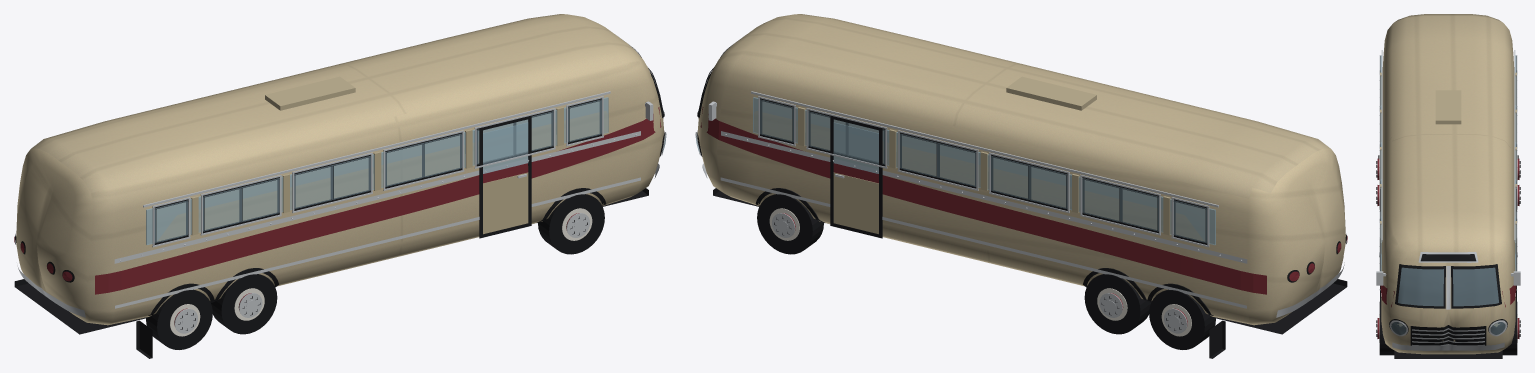
File: coach-geometry-0824.consolidated.glb
3 renders of one model, left to right at view 1: azimuth 30°, elevation 25°; view 2: azimuth 150°, elevation 25°; view 3: azimuth 270°, elevation 25°, orthographic. The views are drawn at different scales.
Visible parts, largest first — view 1: coach_consolidated_0, coach_consolidated_3, coach_consolidated_4, coach_consolidated_2, coach_consolidated_1, coach_consolidated_5; view 2: coach_consolidated_0, coach_consolidated_3, coach_consolidated_4, coach_consolidated_2, coach_consolidated_1, coach_consolidated_5; view 3: coach_consolidated_0, coach_consolidated_4, coach_consolidated_3, coach_consolidated_2, coach_consolidated_1, coach_consolidated_5.
Part boxes in pixels (x1,y1,x2,y2): coach_consolidated_0: [16, 14, 664, 325]; coach_consolidated_3: [146, 97, 666, 244]; coach_consolidated_4: [14, 47, 664, 358]; coach_consolidated_2: [17, 36, 666, 333]; coach_consolidated_1: [14, 107, 661, 325]; coach_consolidated_5: [170, 208, 592, 336]; coach_consolidated_0: [697, 14, 1345, 325]; coach_consolidated_3: [695, 80, 1215, 245]; coach_consolidated_4: [697, 47, 1347, 358]; coach_consolidated_2: [695, 36, 1344, 333]; coach_consolidated_1: [700, 107, 1347, 325]; coach_consolidated_5: [769, 208, 1191, 336]; coach_consolidated_0: [1380, 14, 1516, 354]; coach_consolidated_4: [1376, 56, 1520, 358]; coach_consolidated_3: [1380, 55, 1516, 334]; coach_consolidated_2: [1376, 50, 1520, 350]; coach_consolidated_1: [1377, 158, 1519, 338]; coach_consolidated_5: [1379, 155, 1517, 342].
Bounding box in the file's own units: 11.33 × 3.33 × 2.8.
Materials: 6 (1 with a texture image).
